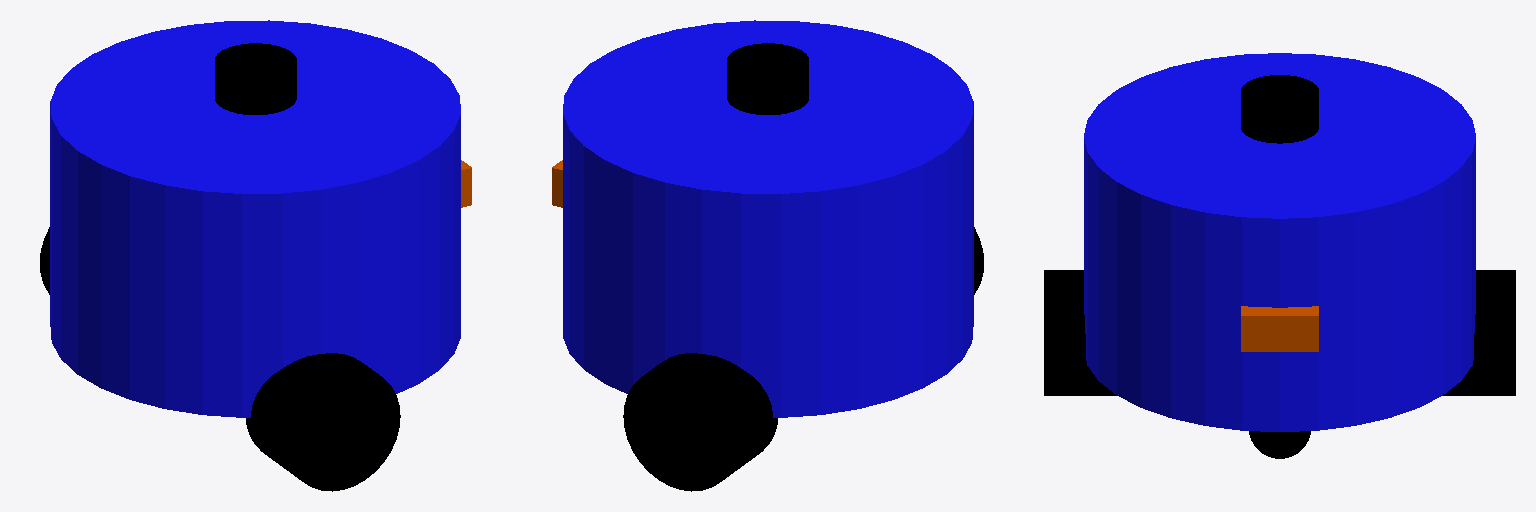
robot.urdf — fishbot:
<?xml version="1.0"?>
<robot name="fishbot">


  <!-- Robot Footprint -->
  <link name="base_footprint"/>

  <joint name="base_joint" type="fixed">
    <parent link="base_footprint"/>
    <child link="base_link"/>
    <origin xyz="-1.4 5.65 0.0" rpy="0 0 0"/>
  </joint>


  <!-- base link -->
  <link name="base_link">
  	<visual>
      <origin xyz="0 0 0.0" rpy="0 0 0"/>
      <geometry>
		<cylinder length="0.12" radius="0.10"/>
      </geometry>
      <material name="blue">
      	<color rgba="0.1 0.1 1.0 0.5" /> 
      </material>
    </visual>
    <collision>
      <origin xyz="0 0 0.0" rpy="0 0 0"/>
      <geometry>
		<cylinder length="0.12" radius="0.10"/>
      </geometry>
      <material name="blue">
      	<color rgba="0.1 0.1 1.0 0.5" /> 
      </material>
    </collision>
    <inertial>
      <mass value="0.2"/>
      <inertia ixx="0.0122666" ixy="0" ixz="0" iyy="0.0122666" iyz="0" izz="0.02"/>
    </inertial>
  </link>
    
  <!-- laser link -->
  <link name="laser_link">
    <visual>
      <origin xyz="0 0 0" rpy="0 0 0"/>
      <geometry>
        <cylinder length="0.02" radius="0.02"/>
      </geometry>
      <material name="black">
        <color rgba="0.0 0.0 0.0 0.5" /> 
      </material>
    </visual>
    <collision>
      <origin xyz="0 0 0" rpy="0 0 0"/>
      <geometry>
        <cylinder length="0.02" radius="0.02"/>
      </geometry>
      <material name="black">
        <color rgba="0.0 0.0 0.0 0.5" /> 
      </material>
    </collision>
    <inertial>
    <mass value="0.1"/>
      <inertia ixx="0.000190416666667" ixy="0" ixz="0" iyy="0.0001904" iyz="0" izz="0.00036"/>
    </inertial>
  </link>
  
  <!-- laser joint -->
  <joint name="laser_joint" type="fixed">
      <parent link="base_link" />
      <child link="laser_link" />
      <origin xyz="0 0 0.075" />
  </joint>

  <link name="imu_link">
  	<visual>
      <origin xyz="0 0 0.0" rpy="0 0 0"/>
      <geometry>
		    <box size="0.02 0.02 0.02"/>
      </geometry>
    </visual>
    <collision>
      <origin xyz="0 0 0.0" rpy="0 0 0"/>
      <geometry>
		    <box size="0.02 0.02 0.02"/>
      </geometry>
    </collision>
    <inertial>
      <mass value="0.1"/>
        <inertia ixx="0.000190416666667" ixy="0" ixz="0" iyy="0.0001904" iyz="0" izz="0.00036"/>
      </inertial>
  </link>

  <!-- imu joint -->
  <joint name="imu_joint" type="fixed">
      <parent link="base_link" />
      <child link="imu_link" />
      <origin xyz="0 0 0.02" />
  </joint>


  <link name="left_wheel_link">
      <visual>
        <origin xyz="0 0 0" rpy="1.57079 0 0"/>
        <geometry>
          <cylinder length="0.04" radius="0.032"/>
        </geometry>
          <material name="black">
            <color rgba="0.0 0.0 0.0 0.5" /> 
          </material>
      </visual>
      <collision>
        <origin xyz="0 0 0" rpy="1.57079 0 0"/>
        <geometry>
          <cylinder length="0.04" radius="0.032"/>
        </geometry>
          <material name="black">
            <color rgba="0.0 0.0 0.0 0.5" /> 
          </material>
      </collision>
      <inertial>
        <mass value="0.2"/>
          <inertia ixx="0.000190416666667" ixy="0" ixz="0" iyy="0.0001904" iyz="0" izz="0.00036"/>
        </inertial>
  </link>

  <link name="camera_link">
  	<visual>
      <origin xyz="0 0 0.0" rpy="0 0 0"/>
      <geometry>
		    <box size="0.02 0.04 0.02"/>
      </geometry>
    </visual>
    <collision>
      <origin xyz="0 0 0.0" rpy="0 0 0"/>
      <geometry>
		    <box size="0.02 0.04 0.02"/>
      </geometry>
    </collision>
    <inertial>
      <mass value="0.1"/>
        <inertia ixx="0.000190416666667" ixy="0" ixz="0" iyy="0.0001904" iyz="0" izz="0.00036"/>
      </inertial>
  </link>

  <!-- imu joint -->
  <joint name="camera_joint" type="fixed">
      <parent link="base_link" />
      <child link="camera_link" />
      <origin xyz="0.10 0 0" />
  </joint>
    
  <link name="right_wheel_link">
      <visual>
        <origin xyz="0 0 0" rpy="1.57079 0 0"/>
        <geometry>
          <cylinder length="0.04" radius="0.032"/>
        </geometry>
          <material name="black">
            <color rgba="0.0 0.0 0.0 0.5" /> 
          </material>
      </visual>
      <collision>
        <origin xyz="0 0 0" rpy="1.57079 0 0"/>
        <geometry>
          <cylinder length="0.04" radius="0.032"/>
        </geometry>
          <material name="black">
            <color rgba="0.0 0.0 0.0 0.5" /> 
          </material>
      </collision>
      <inertial>
      <mass value="0.2"/>
      <inertia ixx="0.000190416666667" ixy="0" ixz="0" iyy="0.0001904" iyz="0" izz="0.00036"/>
    </inertial>
  </link>
    
  <joint name="left_wheel_joint" type="continuous">
      <parent link="base_link" />
      <child link="left_wheel_link" />
      <origin xyz="-0.02 0.10 -0.06" />
      <axis xyz="0 1 0" />
  </joint>

  <joint name="right_wheel_joint" type="continuous">
      <parent link="base_link" />
      <child link="right_wheel_link" />
      <origin xyz="-0.02 -0.10 -0.06" />
      <axis xyz="0 1 0" />
  </joint>

  <link name="caster_link">
      <visual>
        <origin xyz="0 0 0" rpy="1.57079 0 0"/>
        <geometry>
            <sphere radius="0.016"/>
        </geometry>
          <material name="black">
            <color rgba="0.0 0.0 0.0 0.5" /> 
          </material>
      </visual>
      <collision>
        <origin xyz="0 0 0" rpy="1.57079 0 0"/>
        <geometry>
            <sphere radius="0.016"/>
        </geometry>
          <material name="black">
            <color rgba="0.0 0.0 0.0 0.5" /> 
          </material>
      </collision>
      <inertial>
      <mass value="0.02"/>
      <inertia ixx="0.000190416666667" ixy="0" ixz="0" iyy="0.0001904" iyz="0" izz="0.00036"/>
    </inertial>
  </link>
    
  <joint name="caster_joint" type="fixed">
      <parent link="base_link" />
      <child link="caster_link" />
      <origin xyz="0.06 0.0 -0.076" />
      <axis xyz="0 1 0" />
  </joint>



    <gazebo reference="caster_link">
      <material>Gazebo/Black</material>
    </gazebo>

    <gazebo reference="caster_link">
      <mu1 value="0.0"/>
      <mu2 value="0.0"/>
      <kp value="1000000.0" />
      <kd value="10.0" />
      <!-- <fdir1 value="0 0 1"/> -->
    </gazebo>


    <!-- 下面的是二轮差速底盘的代码 -->
    
    <!-- <gazebo>
      <plugin name='diff_drive' filename='libgazebo_ros_diff_drive.so'>
          <ros>
            <namespace>/</namespace>
            <remapping>cmd_vel:=cmd_vel</remapping>
            <remapping>odom:=odom</remapping>
          </ros>
          <update_rate>30</update_rate>
          
          <left_joint>left_wheel_joint</left_joint>
          <right_joint>right_wheel_joint</right_joint>
          
          <wheel_separation>0.2</wheel_separation>
          <wheel_diameter>0.065</wheel_diameter>
          
          <max_wheel_torque>20</max_wheel_torque>
          <max_wheel_acceleration>1.0</max_wheel_acceleration>
          
          <publish_odom>true</publish_odom>
          <publish_odom_tf>true</publish_odom_tf>
          <publish_wheel_tf>true</publish_wheel_tf>
          <odometry_frame>odom</odometry_frame>
          <robot_base_frame>base_footprint</robot_base_frame>
      </plugin>
    </gazebo>  -->
  

    <gazebo>
      <plugin name="planar_move" filename="libgazebo_ros_planar_move.so">
        <ros>
          <namespace>/</namespace>
          <remapping>cmd_vel:=cmd_vel</remapping>
          <remapping>odom:=odom</remapping>
        </ros>
        <update_rate>100.0</update_rate>
        <odometry_frame>odom</odometry_frame>
        <robot_base_frame>base_footprint</robot_base_frame>
        <publish_odom>true</publish_odom>
        <publish_odom_tf>true</publish_odom_tf>
      </plugin>
    </gazebo>

    <gazebo>
      <plugin name="fishbot_joint_state" filename="libgazebo_ros_joint_state_publisher.so">
        <ros>
          <remapping>~/out:=joint_states</remapping>
        </ros>
        <update_rate>30</update_rate>
        <joint_name>right_wheel_joint</joint_name>
        <joint_name>left_wheel_joint</joint_name>
      </plugin>    
    </gazebo> 

    <gazebo reference="laser_link">
      <material>Gazebo/Black</material>
    </gazebo>

    <gazebo reference="imu_link">
      <sensor name="imu_sensor" type="imu">
      <plugin filename="libgazebo_ros_imu_sensor.so" name="imu_plugin">
          <ros>
            <namespace>/</namespace>
            <remapping>~/out:=imu</remapping>
          </ros>
          <initial_orientation_as_reference>false</initial_orientation_as_reference>
        </plugin>
        <always_on>true</always_on>
        <update_rate>100</update_rate>
        <visualize>true</visualize>
        <imu>
          <angular_velocity>
            <x>
              <noise type="gaussian">
                <mean>0.0</mean>
                <stddev>2e-4</stddev>
                <bias_mean>0.0000075</bias_mean>
                <bias_stddev>0.0000008</bias_stddev>
              </noise>
            </x>
            <y>
              <noise type="gaussian">
                <mean>0.0</mean>
                <stddev>2e-4</stddev>
                <bias_mean>0.0000075</bias_mean>
                <bias_stddev>0.0000008</bias_stddev>
              </noise>
            </y>
            <z>
              <noise type="gaussian">
                <mean>0.0</mean>
                <stddev>2e-4</stddev>
                <bias_mean>0.0000075</bias_mean>
                <bias_stddev>0.0000008</bias_stddev>
              </noise>
            </z>
          </angular_velocity>
          <linear_acceleration>
            <x>
              <noise type="gaussian">
                <mean>0.0</mean>
                <stddev>1.7e-2</stddev>
                <bias_mean>0.1</bias_mean>
                <bias_stddev>0.001</bias_stddev>
              </noise>
            </x>
            <y>
              <noise type="gaussian">
                <mean>0.0</mean>
                <stddev>1.7e-2</stddev>
                <bias_mean>0.1</bias_mean>
                <bias_stddev>0.001</bias_stddev>
              </noise>
            </y>
            <z>
              <noise type="gaussian">
                <mean>0.0</mean>
                <stddev>1.7e-2</stddev>
                <bias_mean>0.1</bias_mean>
                <bias_stddev>0.001</bias_stddev>
              </noise>
            </z>
          </linear_acceleration>
        </imu>
      </sensor>
    </gazebo>

    <gazebo reference="laser_link">
      <sensor name="laser_sensor" type="ray">
      <always_on>true</always_on>
      <visualize>true</visualize>
      <update_rate>5</update_rate>
      <pose>0 0 0.075 0 0 0</pose>
      <ray>
          <scan>
            <horizontal>
              <samples>360</samples>
              <resolution>1.000000</resolution>
              <min_angle>0.000000</min_angle>
              <max_angle>6.280000</max_angle>
            </horizontal>
          </scan>
          <range>
            <min>0.120000</min>
            <max>3.5</max>
            <resolution>0.015000</resolution>
          </range>
          <noise>
            <type>gaussian</type>
            <mean>0.0</mean>
            <stddev>0.01</stddev>
          </noise>
      </ray>

      <plugin name="laserscan" filename="libgazebo_ros_ray_sensor.so">
        <ros>
          <!-- <namespace>/tb3</namespace> -->
          <remapping>~/out:=scan</remapping>
        </ros>
        <output_type>sensor_msgs/LaserScan</output_type>
        <frame_name>laser_link</frame_name>
      </plugin>
      </sensor>
    </gazebo>

    <gazebo reference="camera_link">
      <sensor name="camera_sensor" type="camera">
      <always_on>true</always_on>
      <visualize>true</visualize>
       <update_rate>30.0</update_rate>
      <camera name="head">
        <!--匹配物理相机硬件上制造商提供的规格数据-->
        <horizontal_fov>1.3962634</horizontal_fov>
        <image>
          <width>800</width>
          <height>800</height>
          <format>R8G8B8</format>
        </image>
        <clip>
          <near>0.02</near>
          <far>300</far>
        </clip>
        <noise>
          <type>gaussian</type>
          <!-- Noise is sampled independently per pixel on each frame.
               That pixel's noise value is added to each of its color
               channels, which at that point lie in the range [0,1]. -->
          <mean>0.0</mean>
          <stddev>0.007</stddev>
        </noise>
      </camera>

     <plugin name="camera_plugin" filename="libgazebo_ros_camera.so">
      <ros>
        <!-- 命名空间设置 -->
        <namespace>/camera</namespace>
        <!-- 图像话题重映射 -->
        <remapping>image_raw:=image</remapping>
      </ros>
      <camera_name>camera</camera_name>
      <frame_name>camera_link</frame_name>
      <hack_baseline>0.07</hack_baseline>
      <always_on>true</always_on>
     </plugin>
     </sensor>
    </gazebo>
</robot>

--- Facts derived from the render (not from the file) ---
3 views of the same robot in one strip: view 1: azimuth 30°, elevation 25°; view 2: azimuth 150°, elevation 25°; view 3: azimuth 270°, elevation 25° (orthographic).
Model fishbot with 8 links and 7 joints (2 continuous, 5 fixed), rooted at base_footprint, posed all joints at 0.
Links seen in each view (by area): view 1: base_link, right_wheel_link, laser_link; view 2: base_link, left_wheel_link, laser_link; view 3: base_link, left_wheel_link, right_wheel_link, laser_link, camera_link, caster_link.
Link boxes in pixels (<box>): base_link: <box>50,20,460,417</box>; right_wheel_link: <box>246,353,400,491</box>; laser_link: <box>215,43,296,114</box>; base_link: <box>563,20,973,417</box>; left_wheel_link: <box>623,353,777,491</box>; laser_link: <box>727,43,808,114</box>; base_link: <box>1084,53,1475,431</box>; left_wheel_link: <box>1443,270,1515,395</box>; right_wheel_link: <box>1044,270,1116,395</box>; laser_link: <box>1241,75,1318,143</box>; camera_link: <box>1241,306,1318,351</box>; caster_link: <box>1249,431,1310,458</box>.
Bounding box of the posed robot: 0.21 × 0.24 × 0.177 m (x, y, z).
Geometry: primitives only (box / cylinder / sphere), no mesh files.
